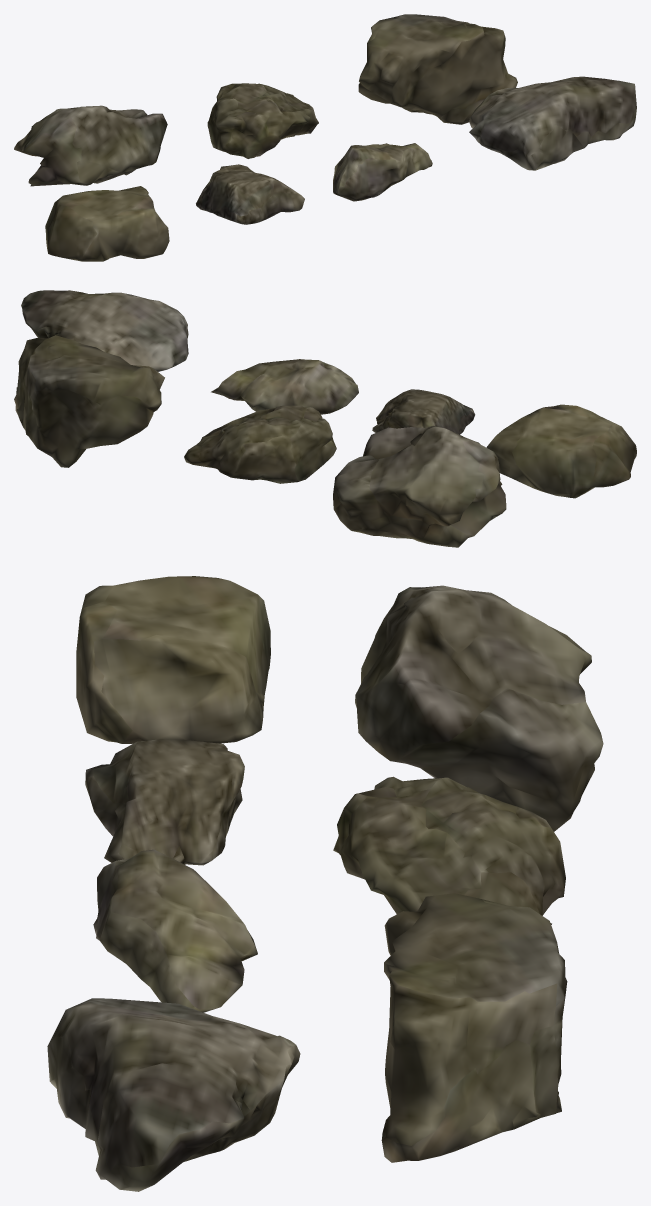
File: rocks-moss-02.lite.53958cfa.glb
3 renders of one model, top to bottom at view 1: azimuth 30°, elevation 25°; view 2: azimuth 150°, elevation 25°; view 3: azimuth 270°, elevation 25°, orthographic. The views are drawn at different scales.
Parts seen in each view (by area): view 1: model; view 2: model; view 3: model.
Part boxes in pixels (<box>): model: <box>14,14,636,261</box>; model: <box>14,290,636,547</box>; model: <box>47,576,603,1191</box>.
Bounding box in the file's own units: 8.27 × 1.36 × 3.41.
Materials: 1 (1 with a texture image).
